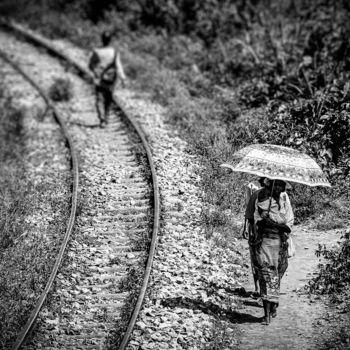Umbrella: (217, 133, 337, 222)
